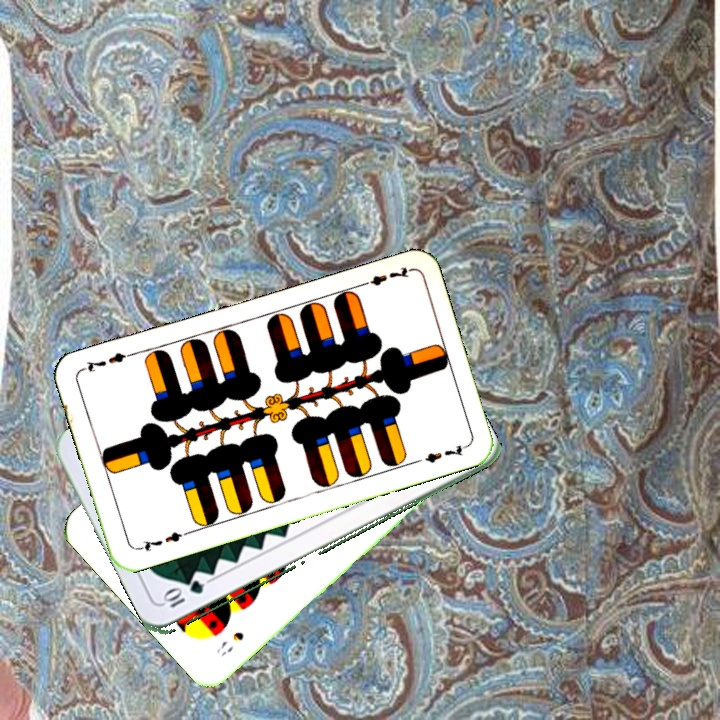E7: (355, 262, 413, 290), (133, 527, 191, 554)
G10: (160, 578, 207, 611)
S8: (211, 627, 246, 659)
